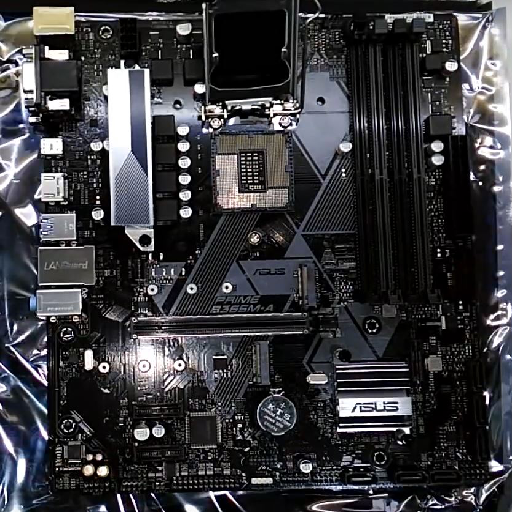CPU: (201, 101, 294, 208)
GPU: (129, 308, 341, 340)
MOTHERBOARD: (33, 17, 487, 494)
RAM: (345, 20, 443, 308)
SSD: (249, 340, 273, 389), (295, 264, 320, 307)
